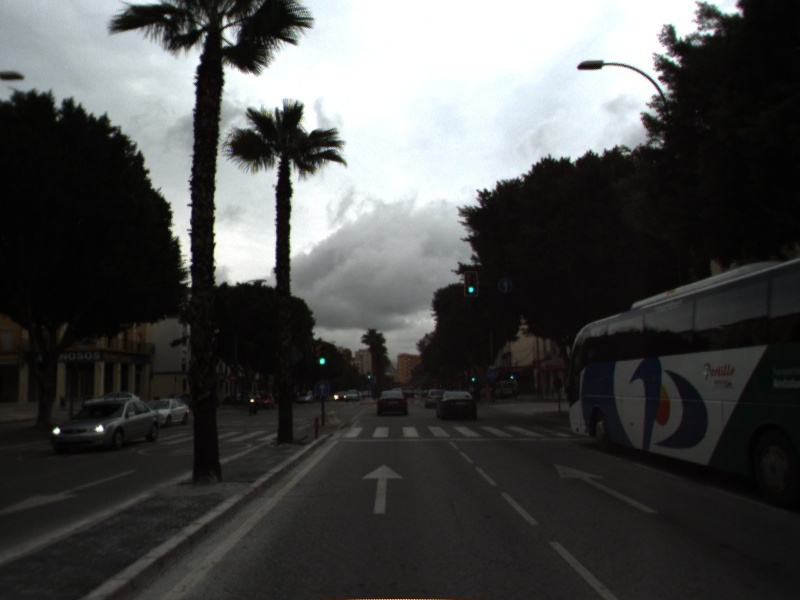STRAIGHT: (551, 461, 662, 516), (360, 462, 406, 516)
